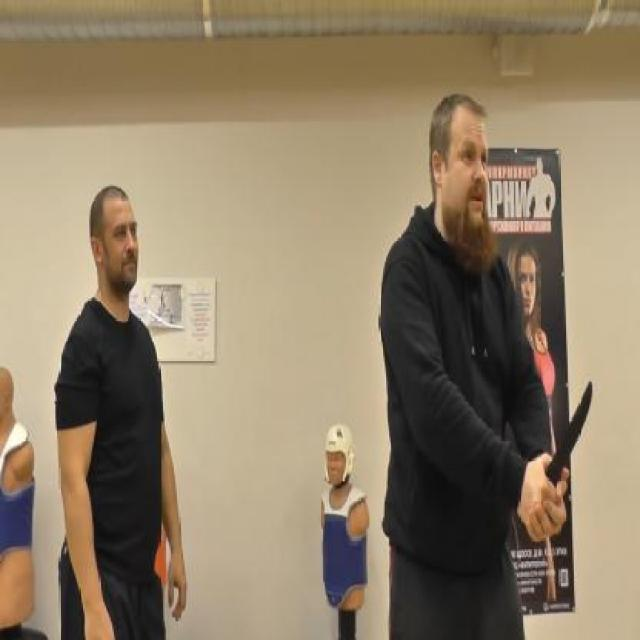-: (525, 372, 596, 540)
